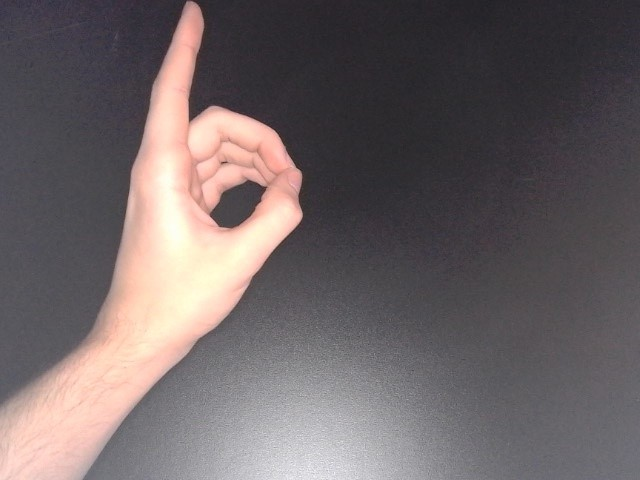d: (98, 1, 311, 366)
